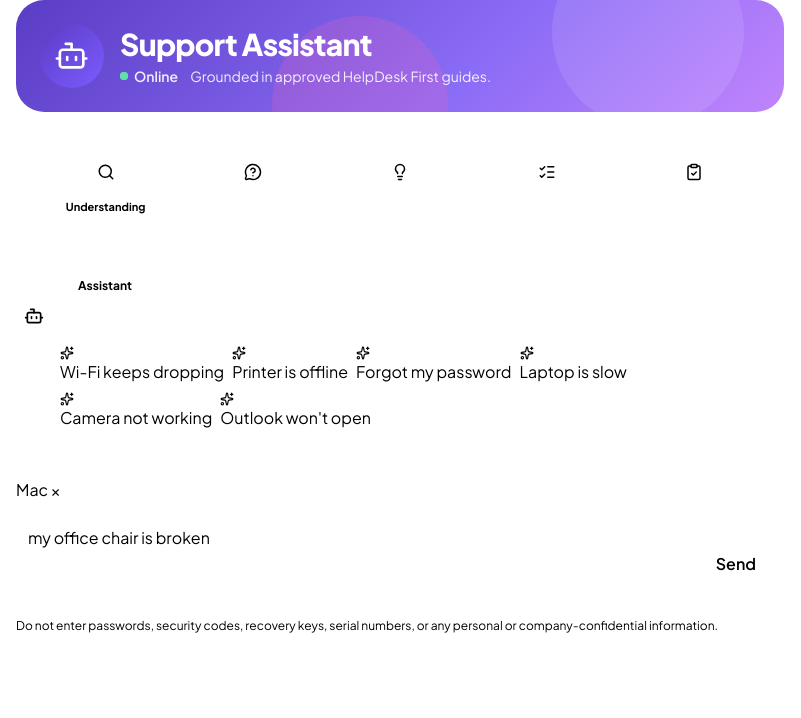
it: AssistantWorkspace › says when no approved guide fits and offers a person
Click the button "Send" at (736, 564), box [688,542,784,586]
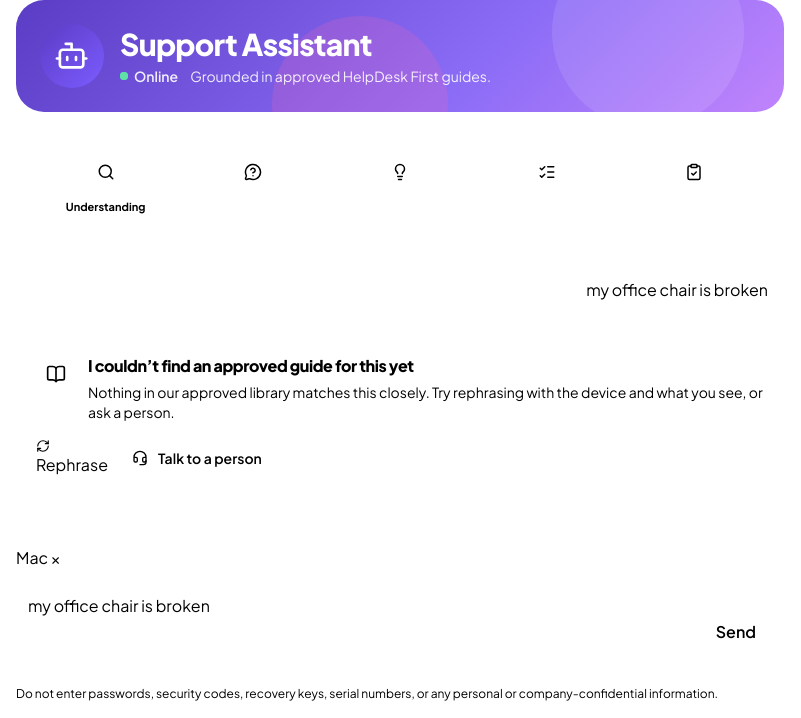
Now the heading "I couldn’t find an approved guide for this yet" is shown, box [88,355,414,376]
Now the button "Rephrase" is shown, box [36,438,108,478]
